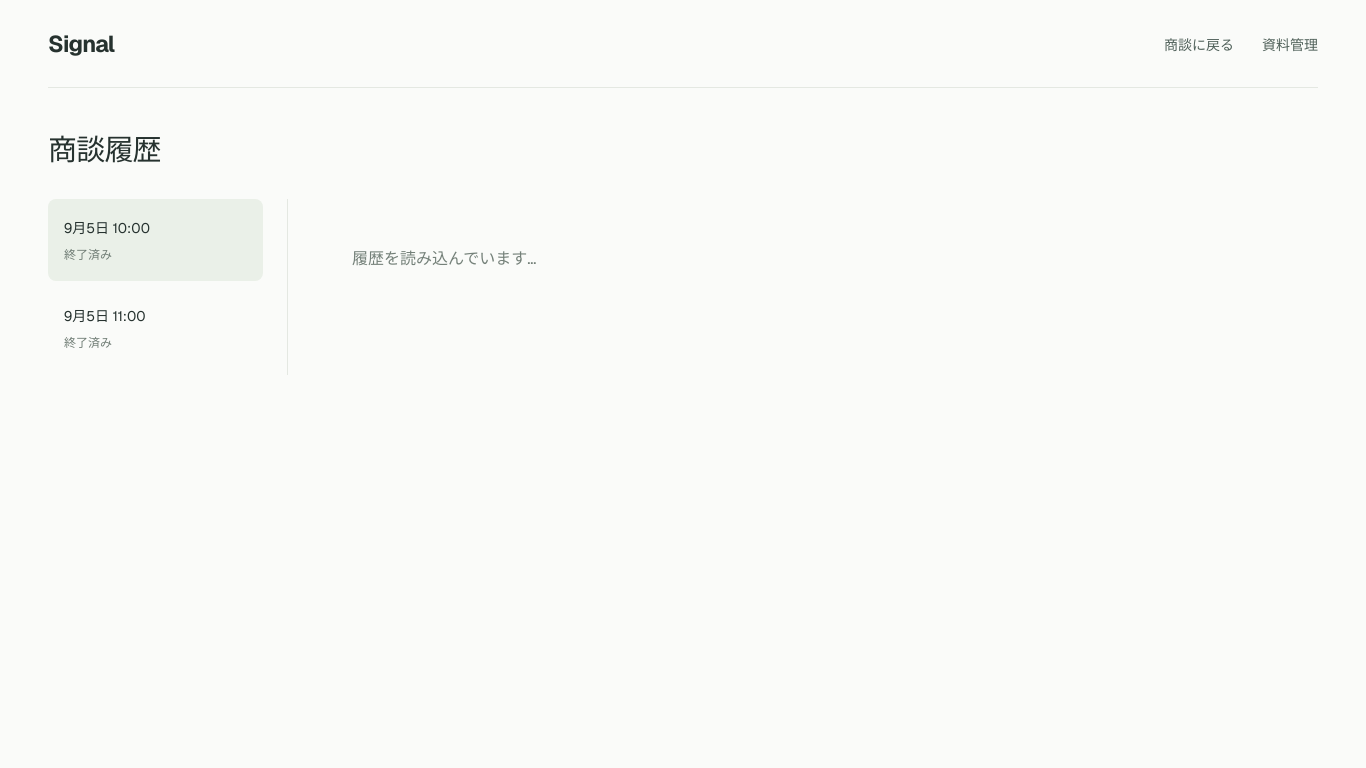
meeting history › ignores a previous meeting's delayed resolve after switching
Click the button "9月5日 11:00 終了済み".
click(156, 328)  # box [48,287,263,369]
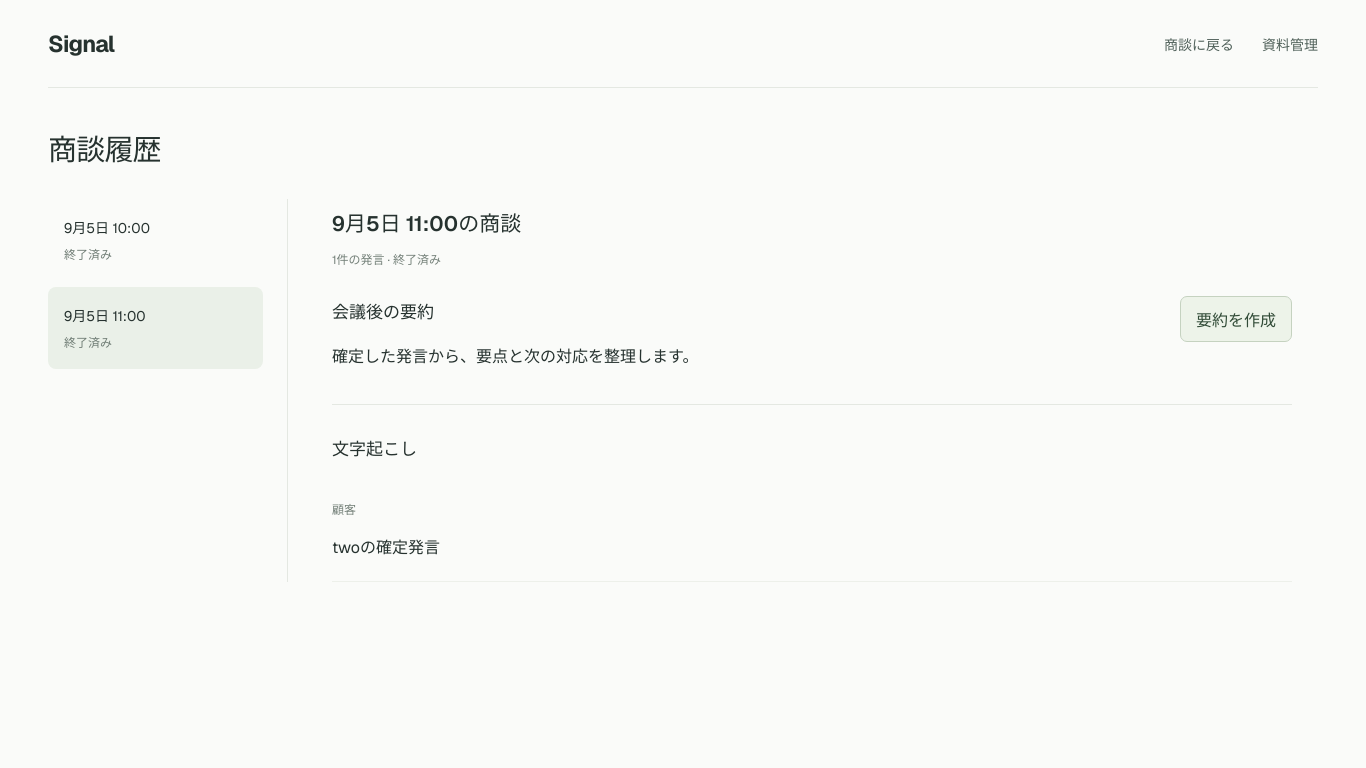
Expected: the text "twoの確定発言" is shown, [332,537,440,558]
